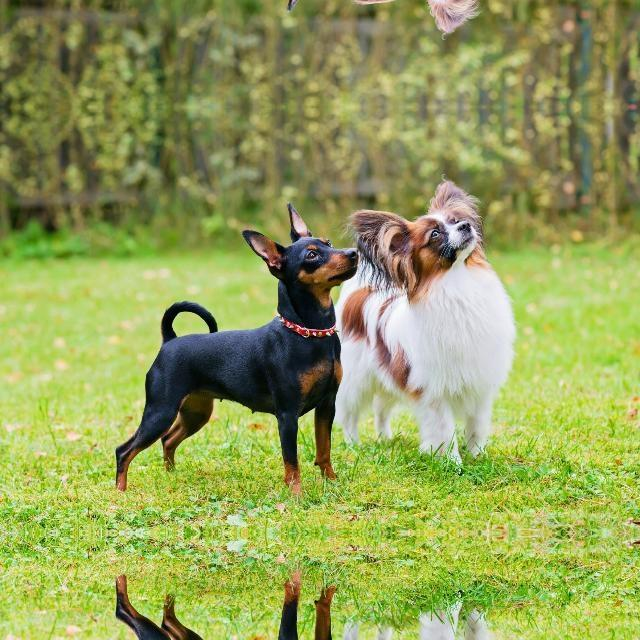dog: (375, 161, 501, 292), (234, 202, 360, 306), (377, 0, 494, 51), (233, 0, 360, 9)
